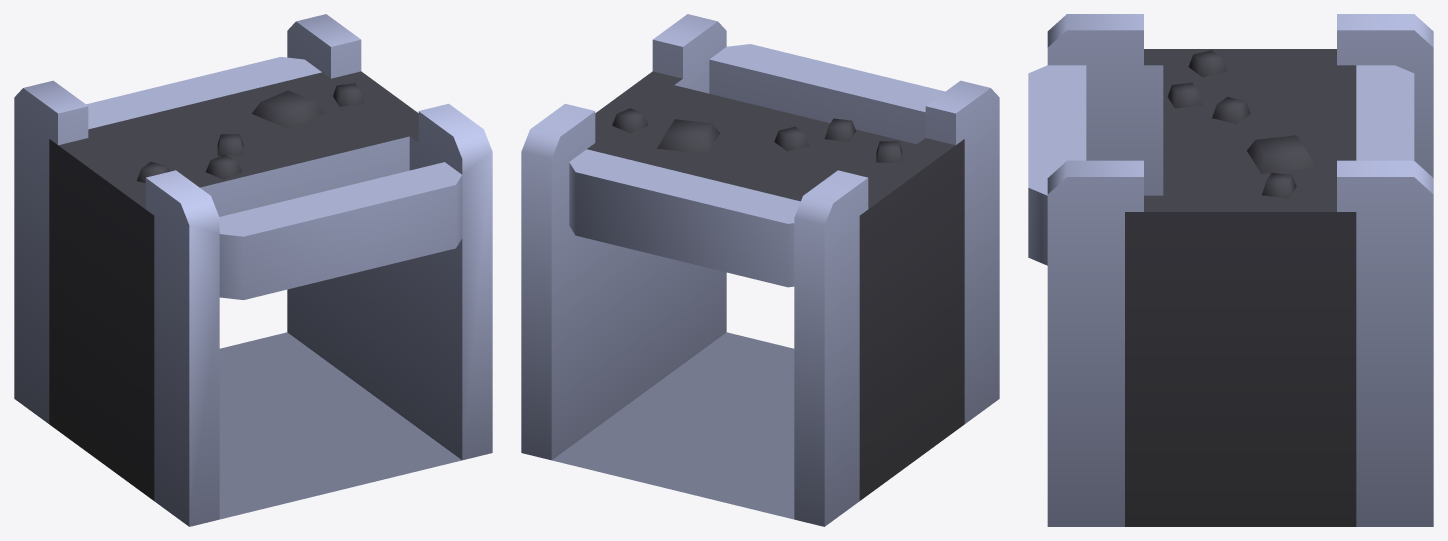
The model's file is wall-opening.glb.
3 renders of one model, left to right at view 1: azimuth 30°, elevation 25°; view 2: azimuth 150°, elevation 25°; view 3: azimuth 270°, elevation 25°, orthographic. The views are drawn at different scales.
Parts seen in each view (by area): view 1: wall-opening; view 2: wall-opening; view 3: wall-opening.
Part boxes in pixels (<box>): wall-opening: <box>14,14,492,526</box>; wall-opening: <box>521,14,999,526</box>; wall-opening: <box>1028,14,1433,526</box>.
Bounding box in the file's own units: 1 × 1 × 1.05.
Materials: 1 (1 with a texture image).
